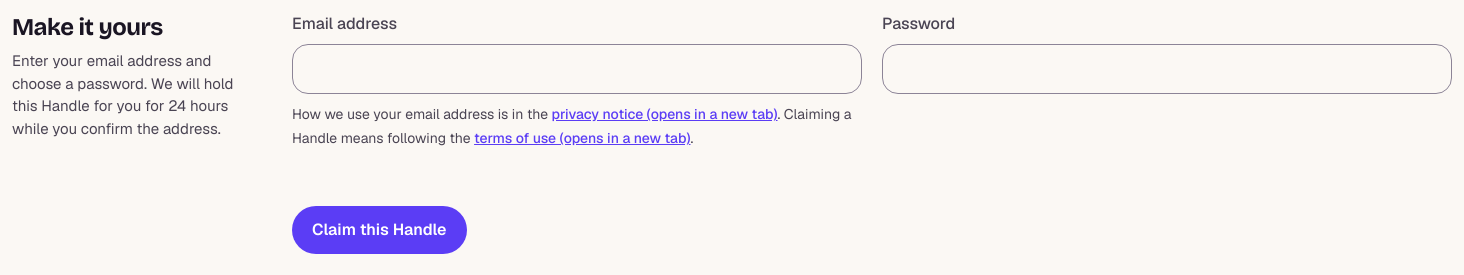
Test case: the claim form › renders a rejection for not a Handle
Type "claimant@example.com" into the field labelled "Email address" at point(577, 69), box [292,44,862,94]
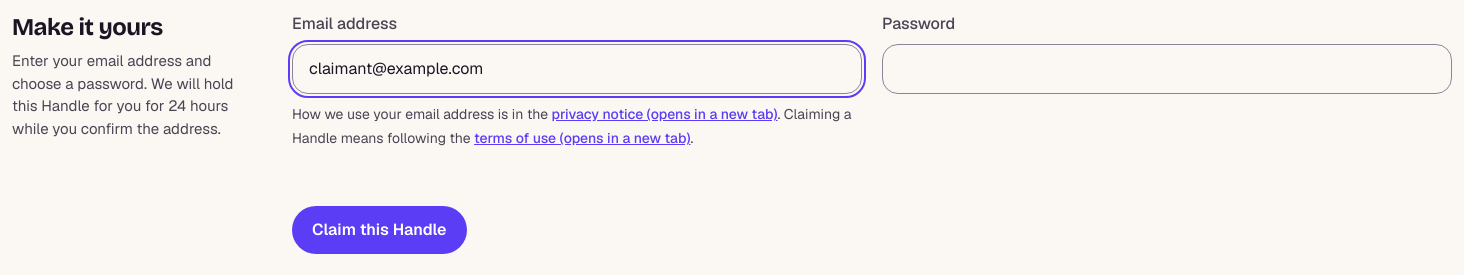
Type "correct horse battery staple" into the password field labelled "Password" at point(1167, 69), box [882,44,1452,94]
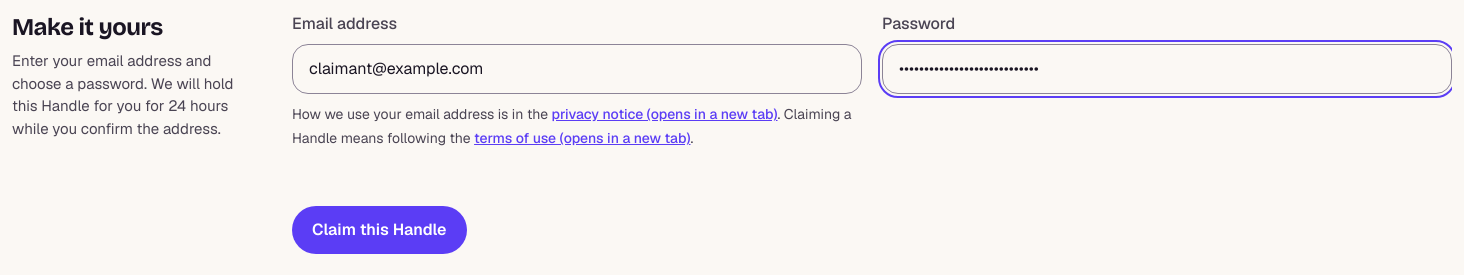
Click the button "Claim this Handle" at point(379, 230), box [292,206,467,254]
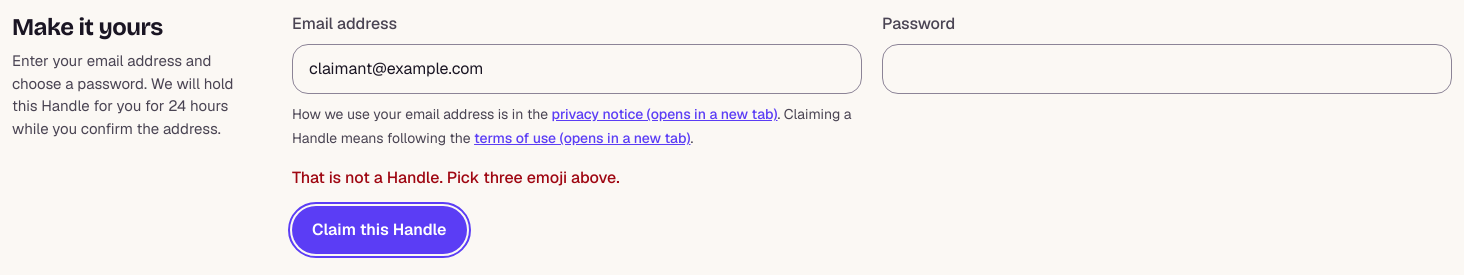
Now the message reads "That is not a Handle. Pick three emoji above.", box [292,167,620,188]
